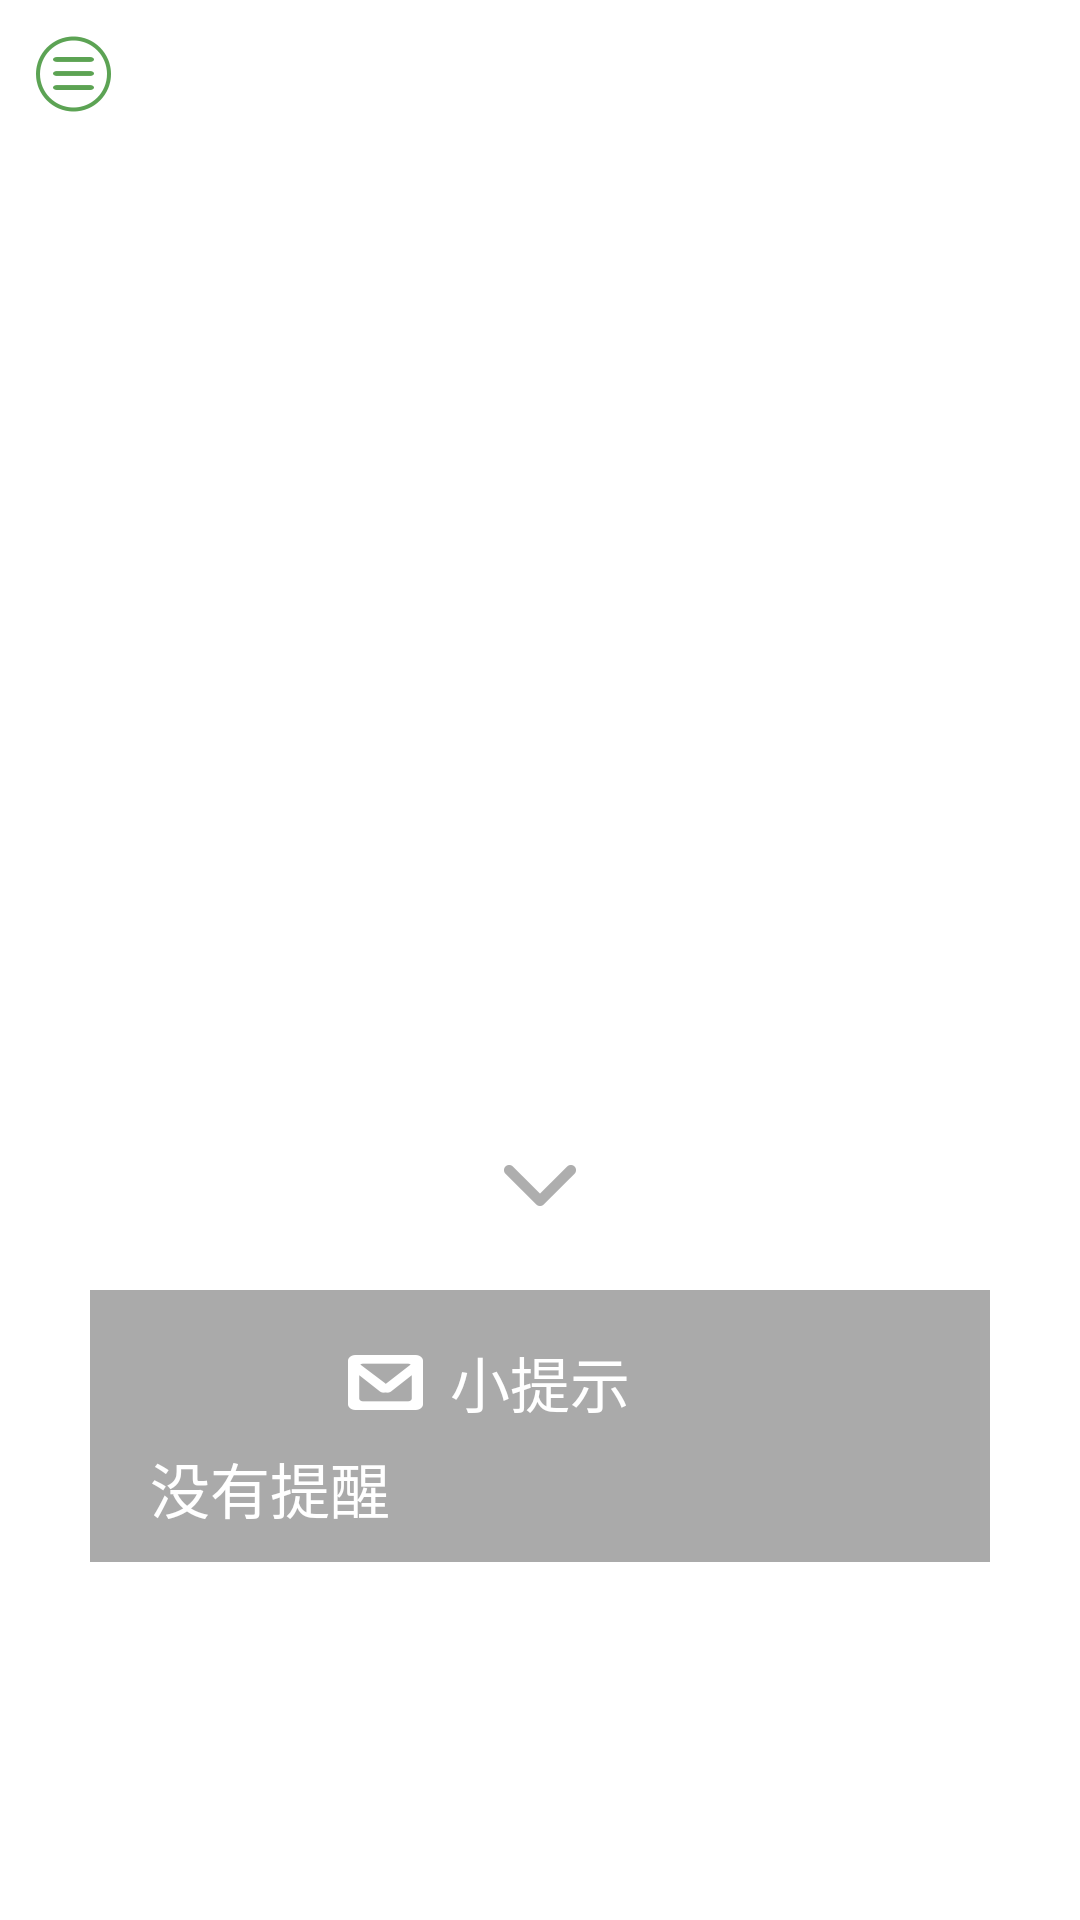

Named icons in this screenshot (1080px x 1920px) and their centers, (x,y):
down arrow: (540,1185)
